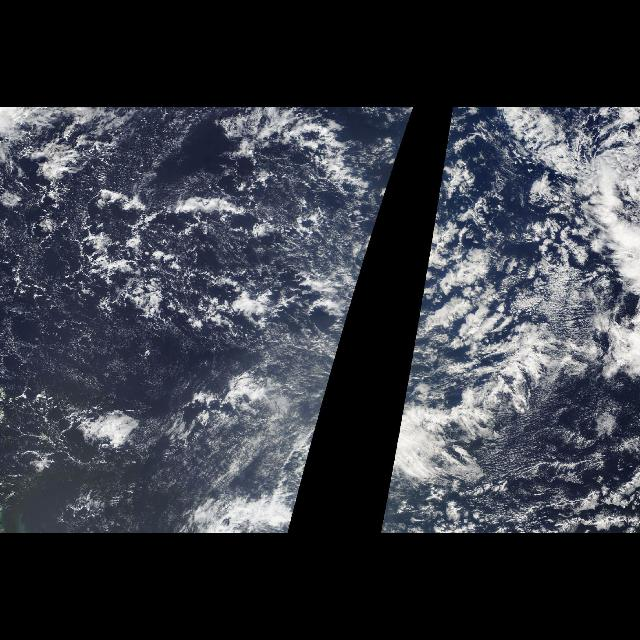Gravel: (9, 148, 327, 388)
